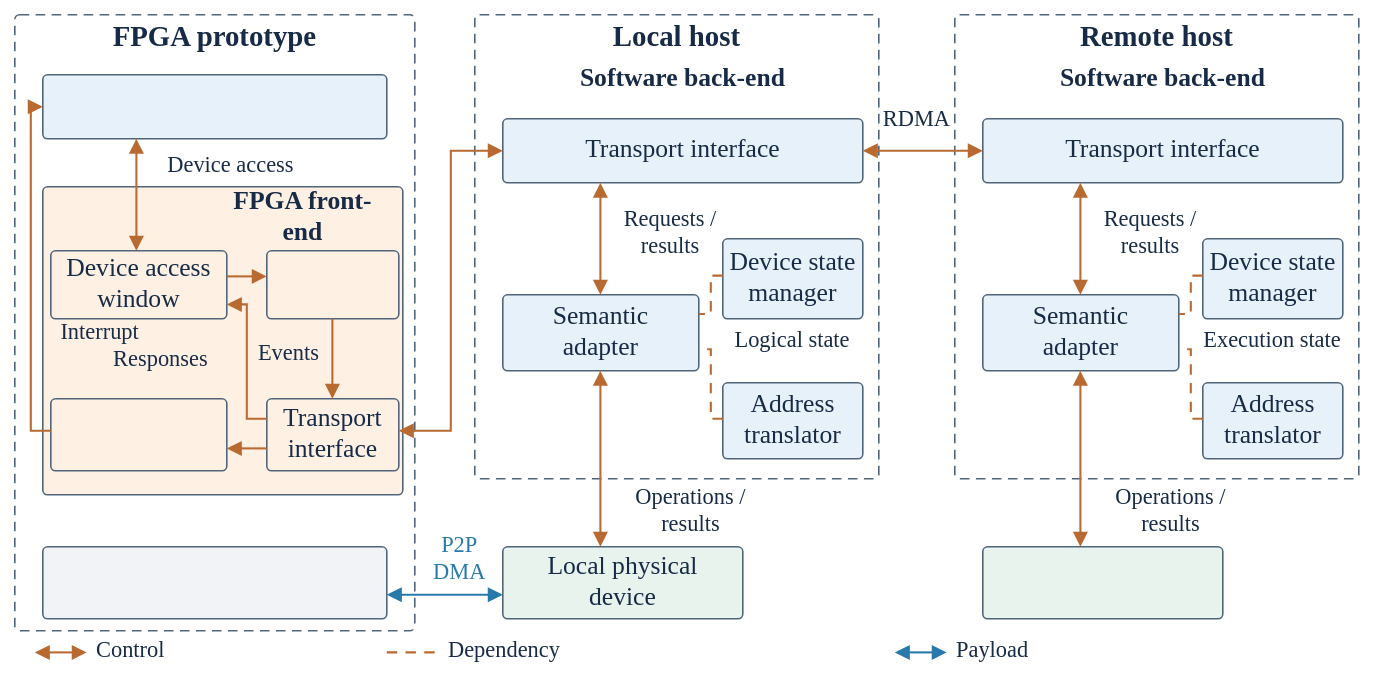
This 1373x685 diagram has some shape labels left out. The shapes that lost their labels are listed below. From the top down, each one's box as (x1, y1, x2, y2) in pixels, then its label:
(42, 74, 387, 139): DUT OS + native driver
(266, 250, 399, 319): Access decoder
(50, 398, 227, 471): Interrupt controller
(42, 546, 387, 619): DUT memory
(982, 546, 1223, 619): Remote physical device
